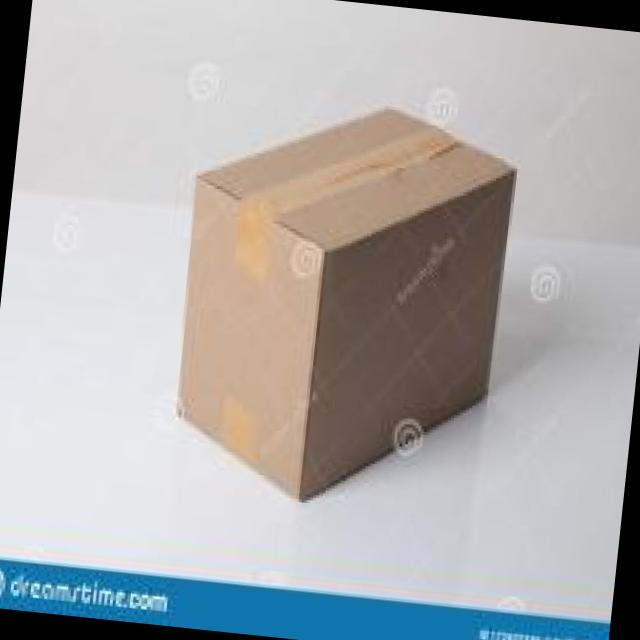box: (177, 106, 521, 508)
